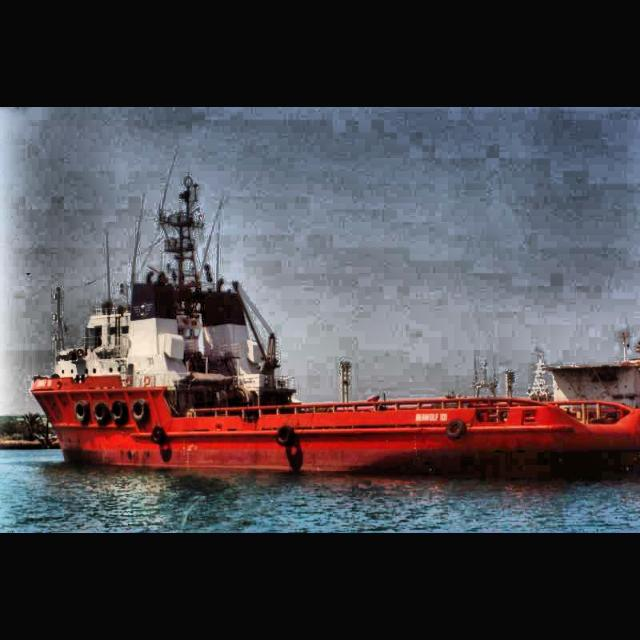anchor_handling_tug_supply: (31, 253, 640, 471)
